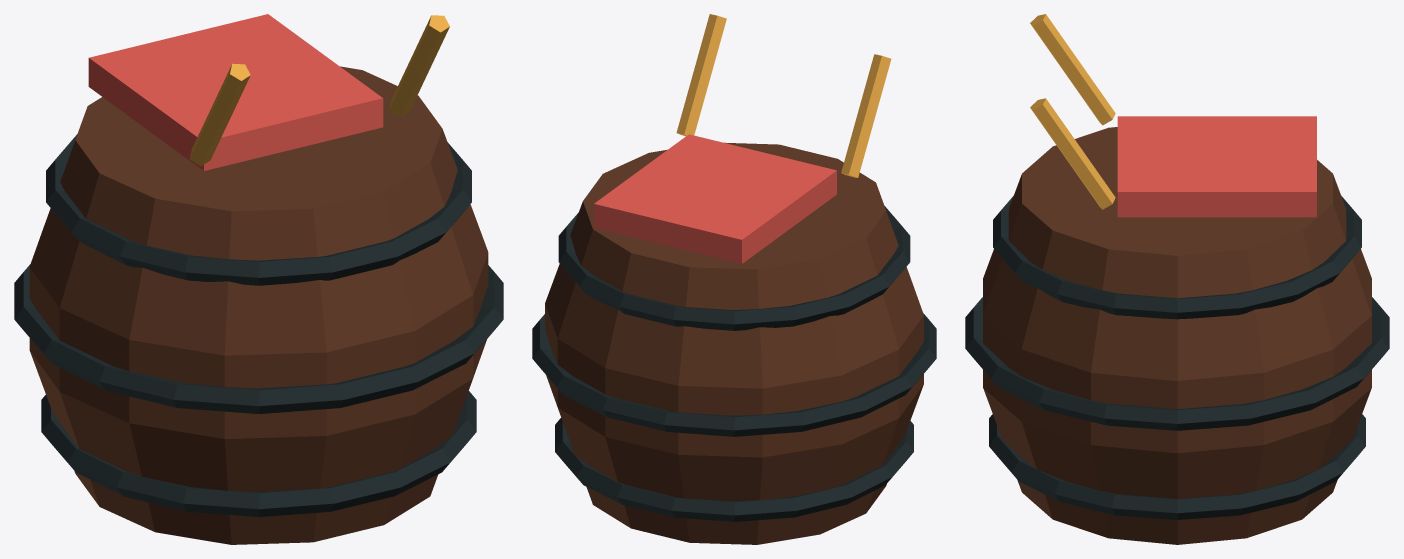
Rendered from ParkParkBarrelPod.obj.
The picture shows the model from 3 angles, left to right: view 1: azimuth 30°, elevation 25°; view 2: azimuth 150°, elevation 25°; view 3: azimuth 270°, elevation 25°; orthographic projection. The views are drawn at different scales.
Visible parts, largest first — view 1: ParkParkBarrelPod; view 2: ParkParkBarrelPod; view 3: ParkParkBarrelPod.
Boxes of the visible parts, bbox=[...] form: ParkParkBarrelPod: bbox=[14, 14, 503, 544]; ParkParkBarrelPod: bbox=[532, 14, 936, 544]; ParkParkBarrelPod: bbox=[965, 14, 1389, 544].
Size of the model in its own units: 2.16 by 2.33 by 2.13.
